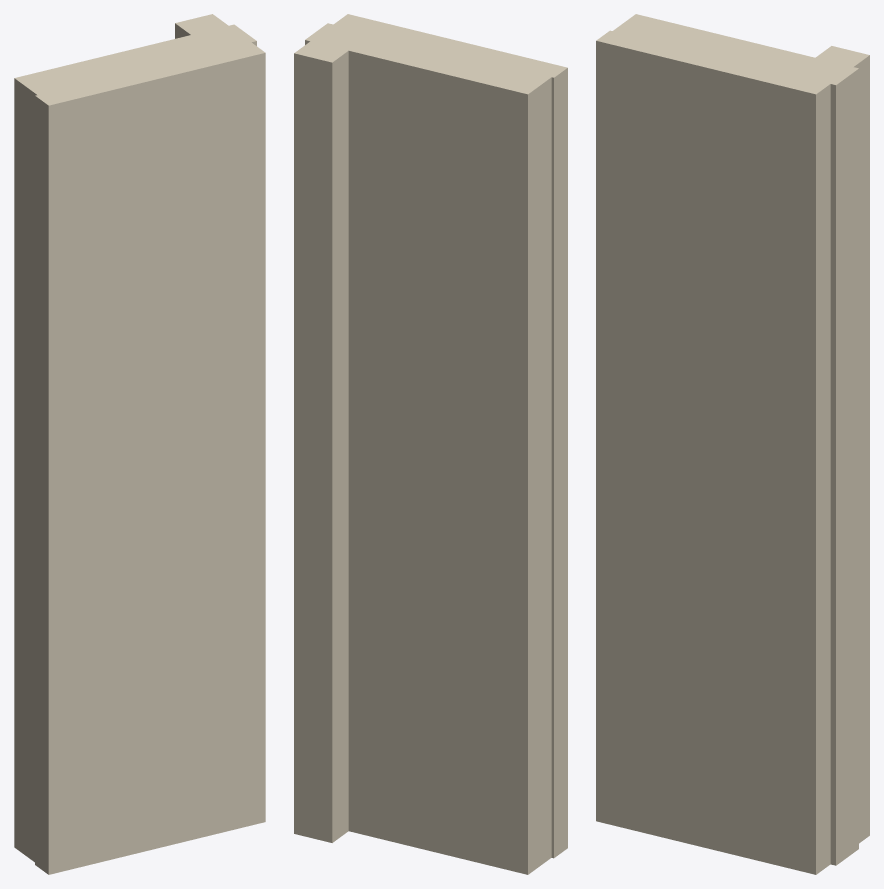
The picture shows the model from 3 angles, left to right: view 1: azimuth 30°, elevation 25°; view 2: azimuth 150°, elevation 25°; view 3: azimuth 330°, elevation 25°; orthographic projection.
Parts seen in each view (by area): view 1: B-FF-WALL-018; view 2: B-FF-WALL-018; view 3: B-FF-WALL-018.
Boxes of the visible parts, left/top/right/bottom form: B-FF-WALL-018: left=14, top=14, right=265, bottom=874; B-FF-WALL-018: left=294, top=14, right=567, bottom=874; B-FF-WALL-018: left=596, top=14, right=869, bottom=874.
Size of the model in its own units: 0.7321 by 2.42 by 0.302.
